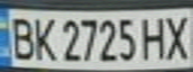2: (96, 16, 121, 63), (57, 15, 81, 63)
5: (115, 15, 142, 62)
7: (78, 15, 100, 63)
B: (6, 14, 36, 61)
H: (139, 12, 172, 61)
K: (30, 14, 57, 62)
X: (163, 11, 193, 61)
